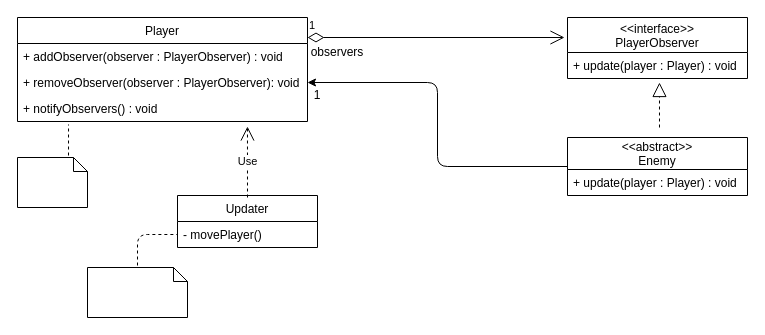
The diagram is 765 pixels wide and 335 high, and some of its shapes have lost their labels. The centre of each missing label's shape, as x and y in pixels:
forall o in observers, o.update();: the point at 52,182
if it moves the player, calls notifyObservers(): the point at 137,292
